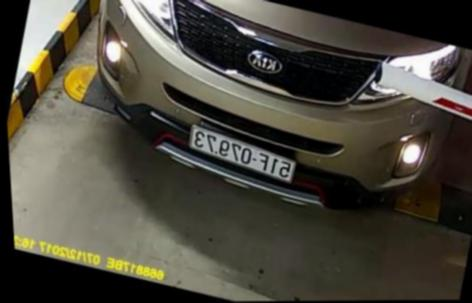License_Plate: (168, 126, 304, 186)
